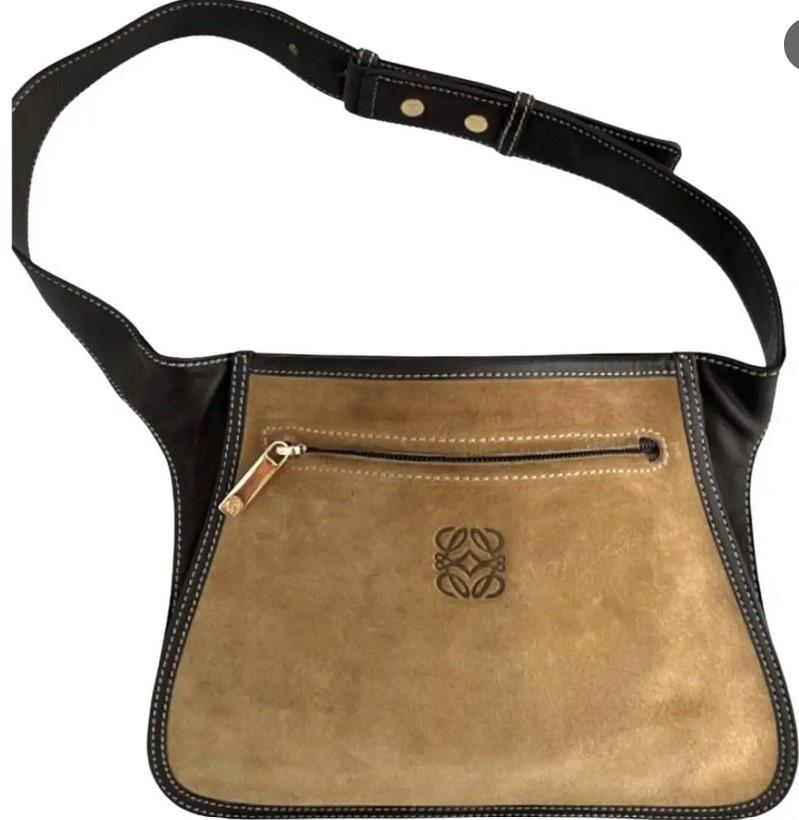LOEWE: (428, 516, 515, 606)
